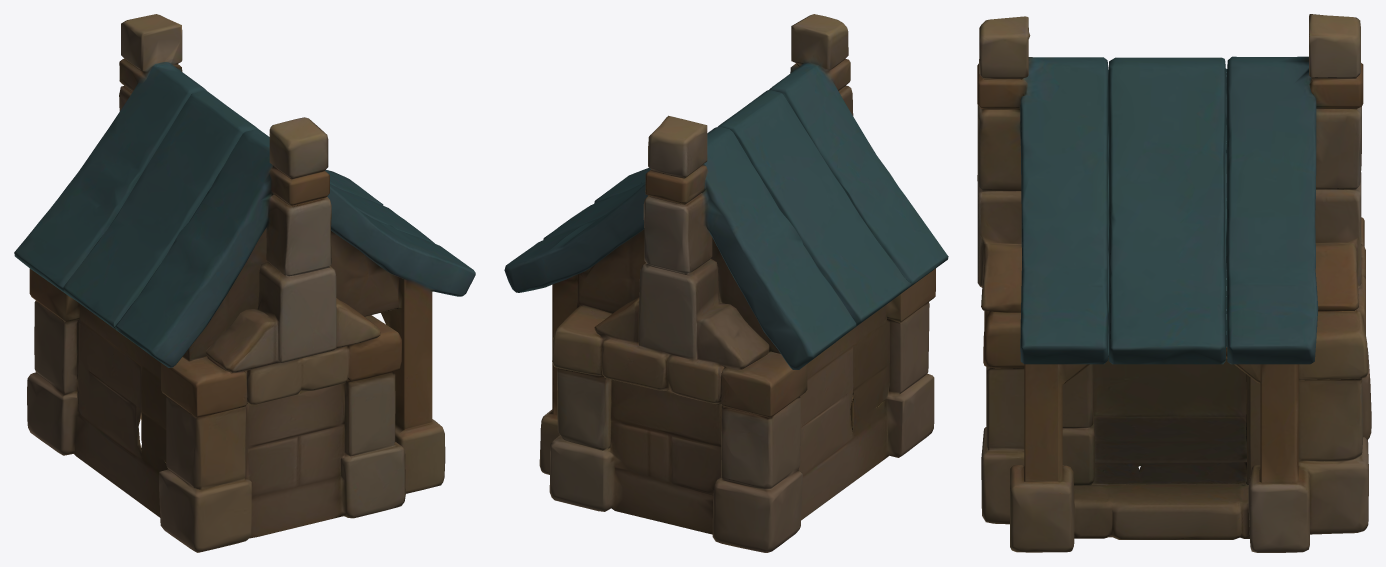
The model's file is house.1k.glb.
3 views of the same model, side by side, from view 1: azimuth 30°, elevation 25°; view 2: azimuth 150°, elevation 25°; view 3: azimuth 270°, elevation 25° (orthographic). The views are drawn at different scales.
Visible parts, largest first — view 1: tripo_node_cbefa723-743a-44b7-af34-5de8b11d7ffe; view 2: tripo_node_cbefa723-743a-44b7-af34-5de8b11d7ffe; view 3: tripo_node_cbefa723-743a-44b7-af34-5de8b11d7ffe.
Part boxes in pixels (x1=…): tripo_node_cbefa723-743a-44b7-af34-5de8b11d7ffe: x1=14, y1=14, x2=475, y2=552; tripo_node_cbefa723-743a-44b7-af34-5de8b11d7ffe: x1=504, y1=14, x2=948, y2=552; tripo_node_cbefa723-743a-44b7-af34-5de8b11d7ffe: x1=977, y1=14, x2=1371, y2=552.
Size of the model in its own units: 0.845 by 1 by 0.7873.
1 material, 1 textured.
